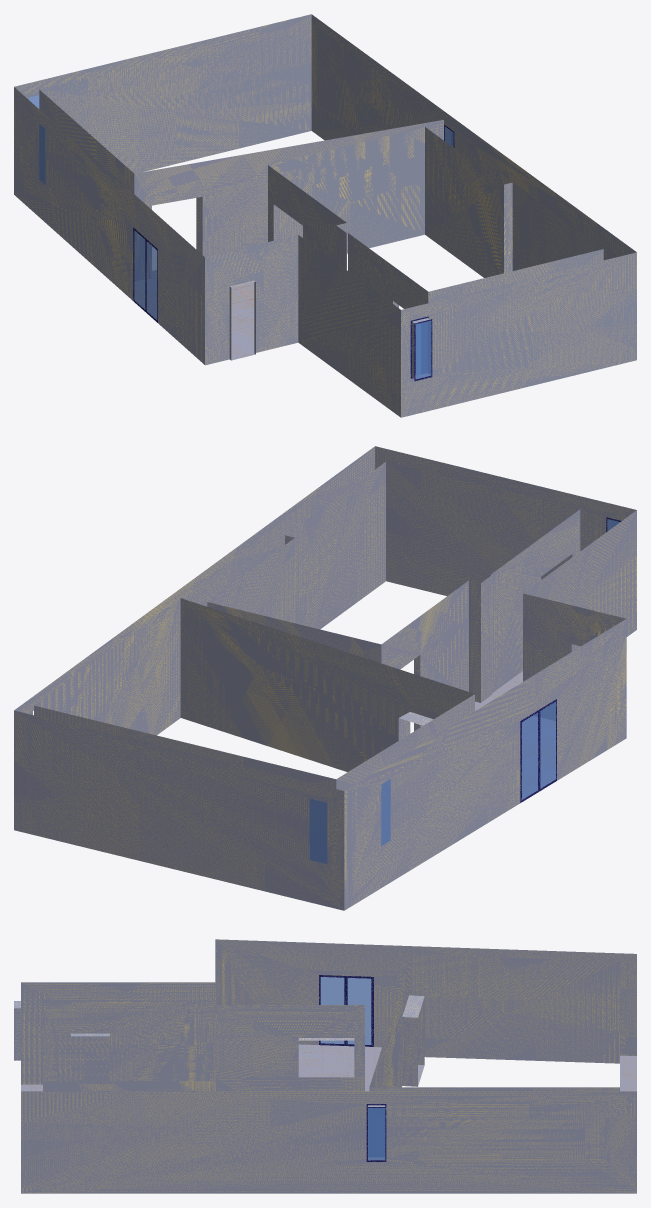
Rendered from COM001.obj.
3 renders of one model, top to bottom at view 1: azimuth 30°, elevation 25°; view 2: azimuth 150°, elevation 25°; view 3: azimuth 270°, elevation 25°, orthographic. The views are drawn at different scales.
Visible parts, largest first — view 1: Mesh13 Group1 Model, Mesh9 Group4 Group1 Model, Mesh1 Group2 Group1 Model; view 2: Mesh13 Group1 Model, Mesh9 Group4 Group1 Model; view 3: Mesh13 Group1 Model, Mesh9 Group4 Group1 Model, Mesh5 Group3 Group1 Model, Mesh1 Group2 Group1 Model.
Boxes of the visible parts, x1,y1,x2,y2 form: Mesh13 Group1 Model: (14, 14, 636, 417); Mesh9 Group4 Group1 Model: (133, 227, 157, 322); Mesh1 Group2 Group1 Model: (410, 316, 432, 381); Mesh13 Group1 Model: (14, 446, 636, 910); Mesh9 Group4 Group1 Model: (520, 699, 556, 802); Mesh13 Group1 Model: (21, 939, 636, 1193); Mesh9 Group4 Group1 Model: (319, 975, 373, 1046); Mesh5 Group3 Group1 Model: (366, 1104, 386, 1161); Mesh1 Group2 Group1 Model: (14, 1001, 20, 1060).
Size of the model in its own units: 9.77 by 3 by 16.59.
6 materials, 1 textured.
